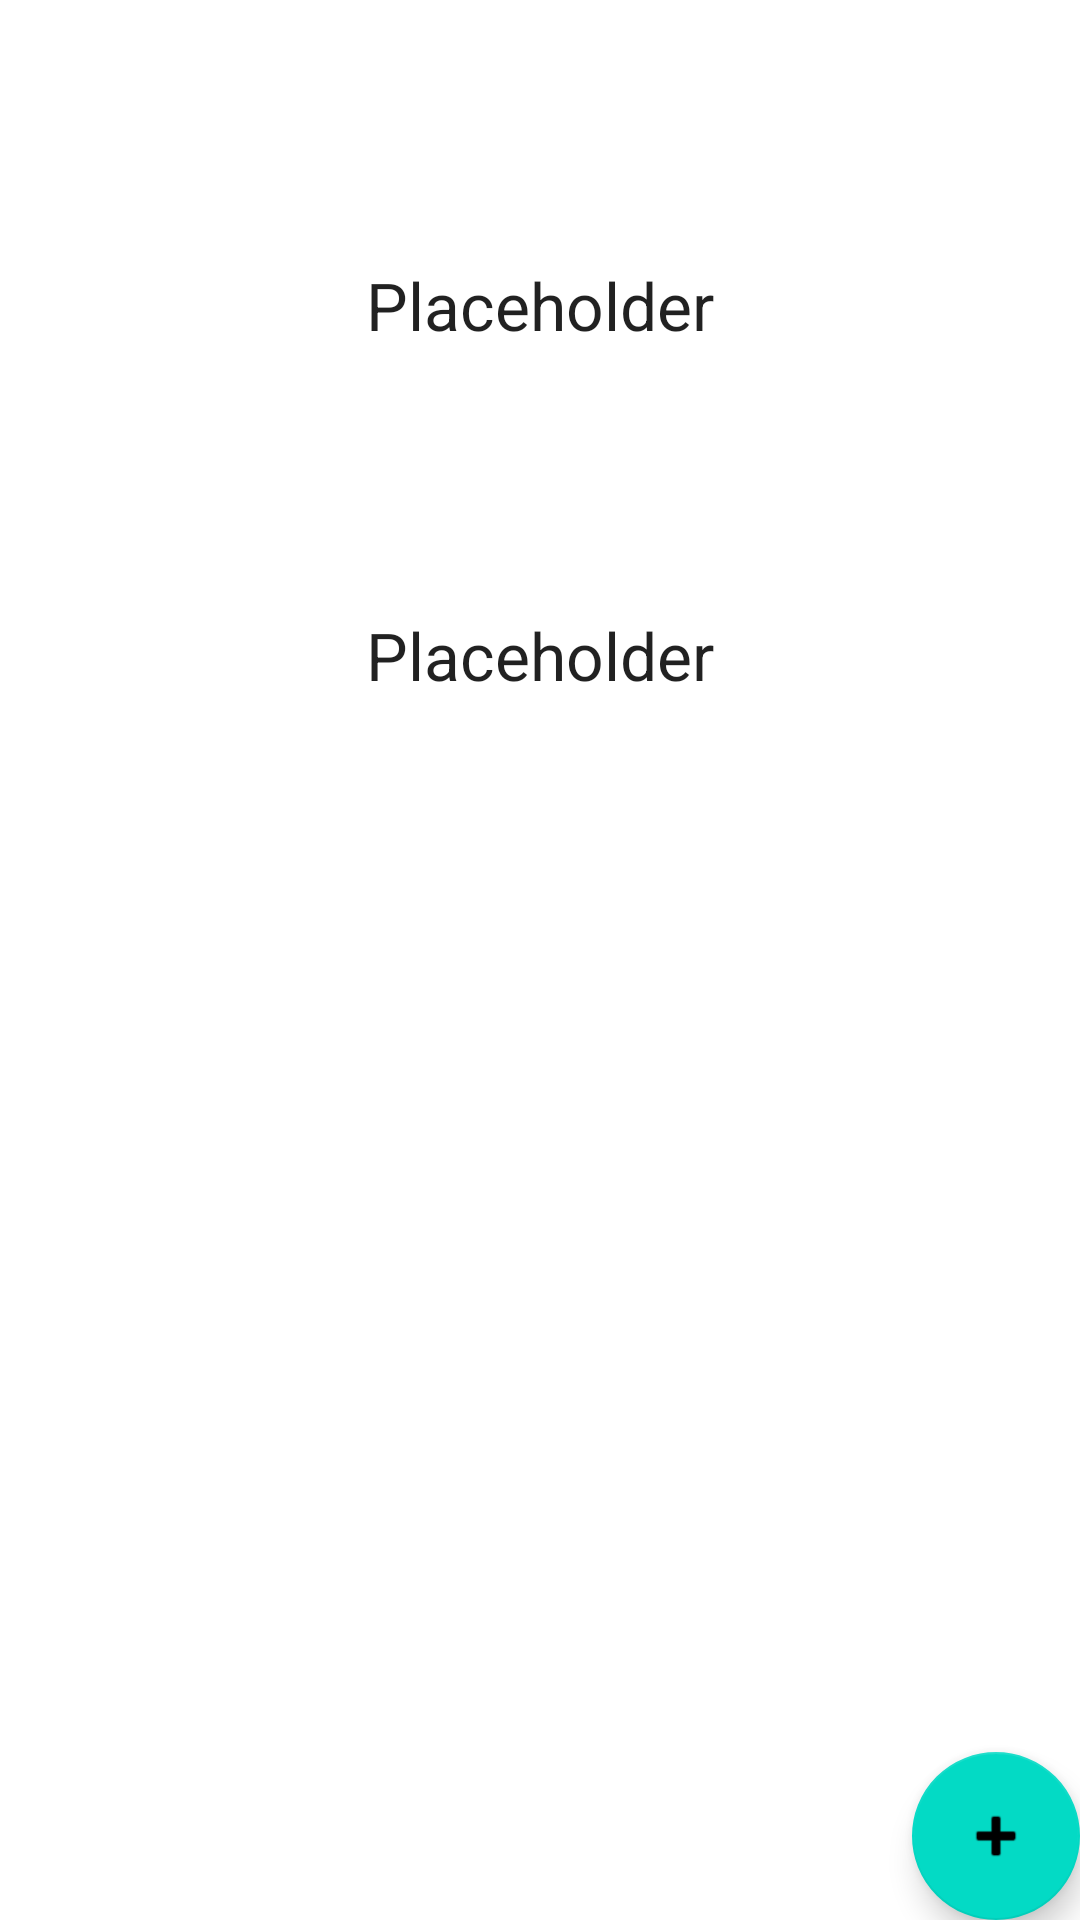

Icon bounding boxes for this 1080 × 1920 phone screenshot, format (x1, y1, x2, y2):
New Game: (912, 1752, 1080, 1920)
